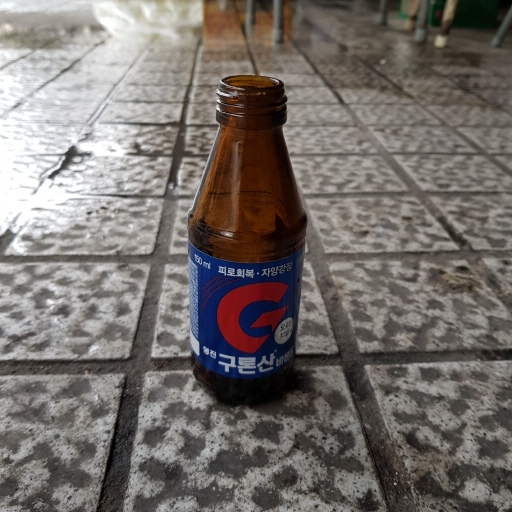Glass_3: (181, 76, 313, 404)
